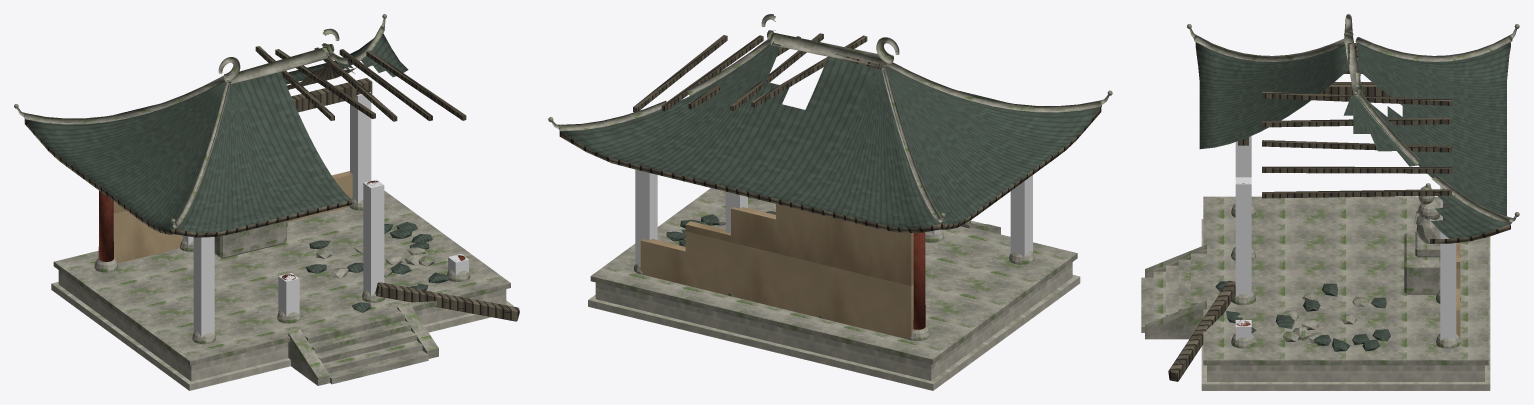
The model's file is ruined_shrine.glb.
3 renders of one model, left to right at view 1: azimuth 30°, elevation 25°; view 2: azimuth 150°, elevation 25°; view 3: azimuth 270°, elevation 25°, orthographic. The views are drawn at different scales.
Parts seen in each view (by area): view 1: ShrineStairs, ShrineRoof, ShrineBase, ShrineRoofRidges, ShrineRafters, ShrineBeams, ShrineWall, ShrineAltar, ShrinePillar-convcolonly.006, ShrineCheeks, ShrinePillar-convcolonly.004, ShrinePillar-convcolonly.003 (+4 smaller); view 2: ShrineRoof, ShrineWall, ShrineStairs, ShrineBase, ShrineRoofRidges, ShrineRafters, ShrinePillar-convcolonly.003, ShrinePillar-convcolonly.004, ShrinePillars, ShrinePillarBases, ShrineTileRubble; view 3: ShrineStairs, ShrineRoof, ShrineBase, ShrineRafters, ShrineRoofRidges, ShrineAltar, ShrineBeams, ShrinePillar-convcolonly.006, ShrineCheeks, ShrineTileRubble, ShrinePillar-convcolonly.003, ShrinePillarBases (+2 smaller).
Part boxes in pixels (<box>): ShrineStairs: <box>53,190,510,384</box>; ShrineRoof: <box>24,33,408,237</box>; ShrineBase: <box>51,270,513,390</box>; ShrineRoofRidges: <box>24,26,384,229</box>; ShrineRafters: <box>255,46,466,121</box>; ShrineBeams: <box>291,78,519,321</box>; ShrineWall: <box>113,171,352,263</box>; ShrineAltar: <box>214,221,434,287</box>; ShrinePillar-convcolonly.006: <box>363,179,384,296</box>; ShrineCheeks: <box>288,303,438,385</box>; ShrinePillar-convcolonly.004: <box>193,237,214,338</box>; ShrinePillar-convcolonly.003: <box>350,92,371,204</box>; ShrineRoof: <box>559,43,1101,233</box>; ShrineWall: <box>640,204,913,339</box>; ShrineStairs: <box>590,188,1077,364</box>; ShrineBase: <box>588,262,1080,390</box>; ShrineRoofRidges: <box>559,14,1101,223</box>; ShrineRafters: <box>633,33,867,112</box>; ShrinePillar-convcolonly.003: <box>635,169,657,265</box>; ShrinePillar-convcolonly.004: <box>1010,175,1032,258</box>; ShrinePillars: <box>913,232,925,329</box>; ShrinePillarBases: <box>634,197,1034,341</box>; ShrineTileRubble: <box>666,211,775,246</box>; ShrineStairs: <box>1141,196,1488,365</box>; ShrineRoof: <box>1195,42,1510,243</box>; ShrineBase: <box>1201,219,1490,390</box>; ShrineRafters: <box>1262,91,1451,198</box>; ShrineRoofRidges: <box>1194,14,1512,223</box>; ShrineAltar: <box>1233,183,1440,343</box>; ShrineBeams: <box>1168,82,1448,381</box>; ShrinePillar-convcolonly.006: <box>1235,177,1251,297</box>; ShrineCheeks: <box>1145,244,1206,339</box>; ShrineTileRubble: <box>1215,281,1390,351</box>; ShrinePillar-convcolonly.003: <box>1440,231,1456,340</box>; ShrinePillarBases: <box>1231,203,1460,348</box>.
Size of what is drawn, in the model's own units: 12.3 by 8.05 by 10.35.
6 materials, 6 textured.
